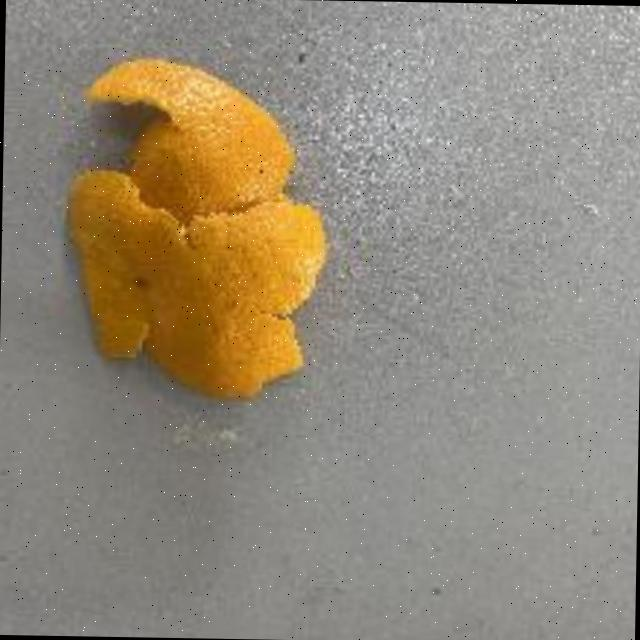orange-peel: (59, 51, 334, 403)
